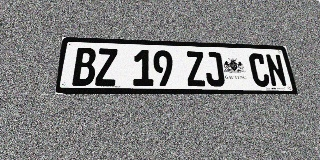1: (133, 49, 154, 86)
9: (153, 50, 174, 86)
B: (72, 47, 97, 86)
C: (248, 53, 271, 87)
J: (203, 52, 225, 86)
N: (265, 54, 288, 87)
Z: (95, 48, 118, 86), (185, 51, 207, 86)
